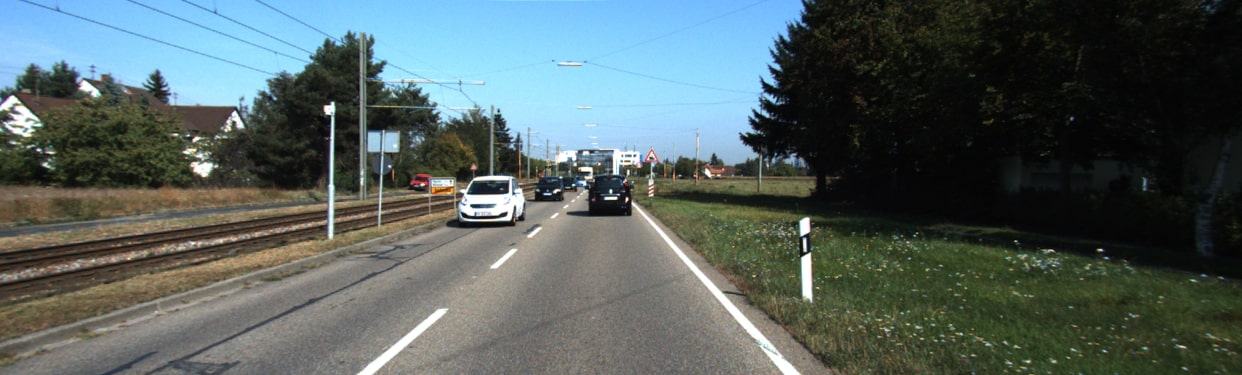car: (452, 172, 530, 229), (577, 169, 639, 222), (535, 176, 563, 203), (405, 174, 426, 194)
